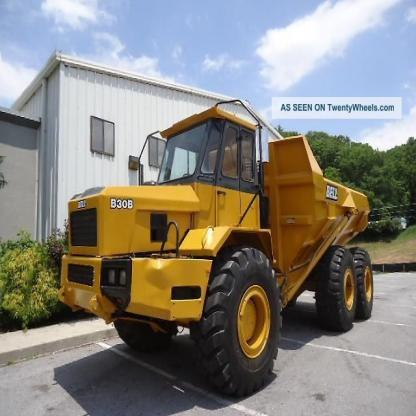dump_truck: (69, 93, 379, 388)
